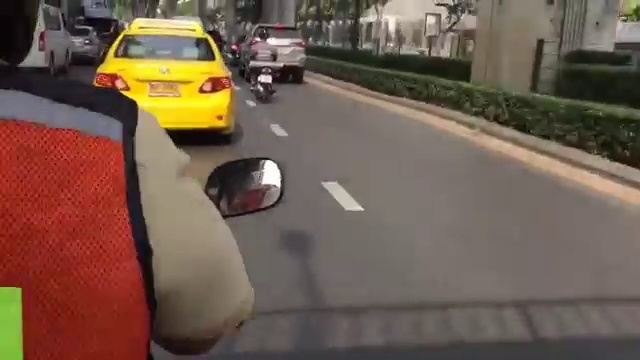helmet: (259, 26, 269, 42)
